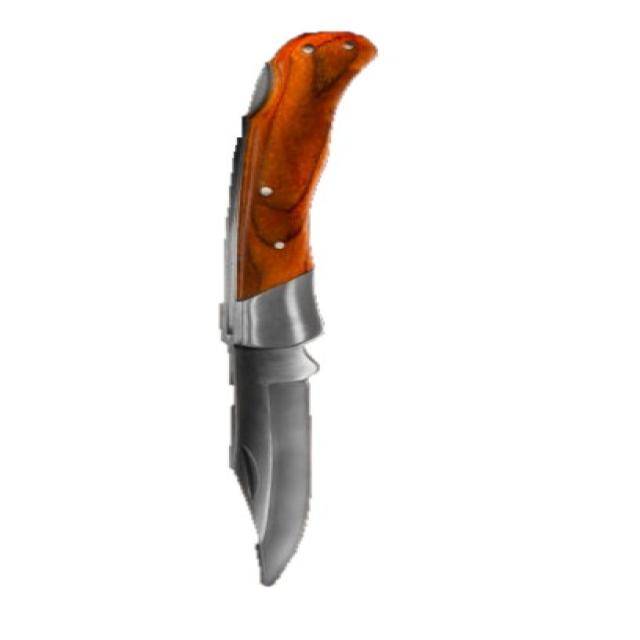knife: (206, 22, 403, 599)
